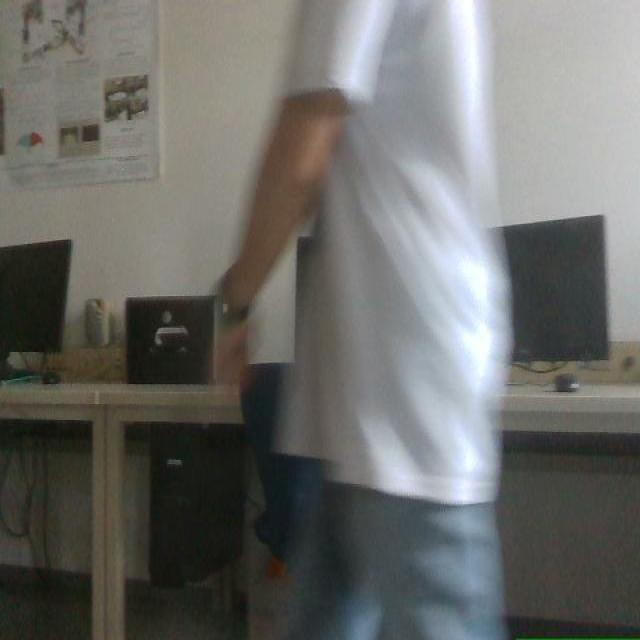humans: (219, 0, 510, 639)
objects: (241, 363, 321, 562), (149, 424, 245, 586), (125, 296, 214, 383)
